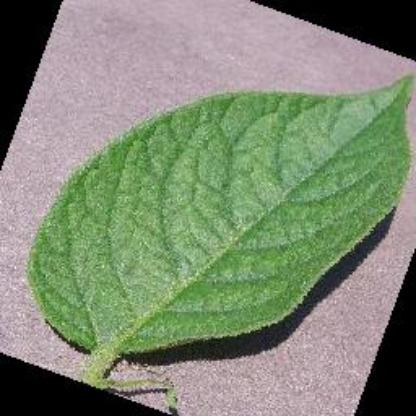Healthy-plant: (14, 61, 416, 377)
